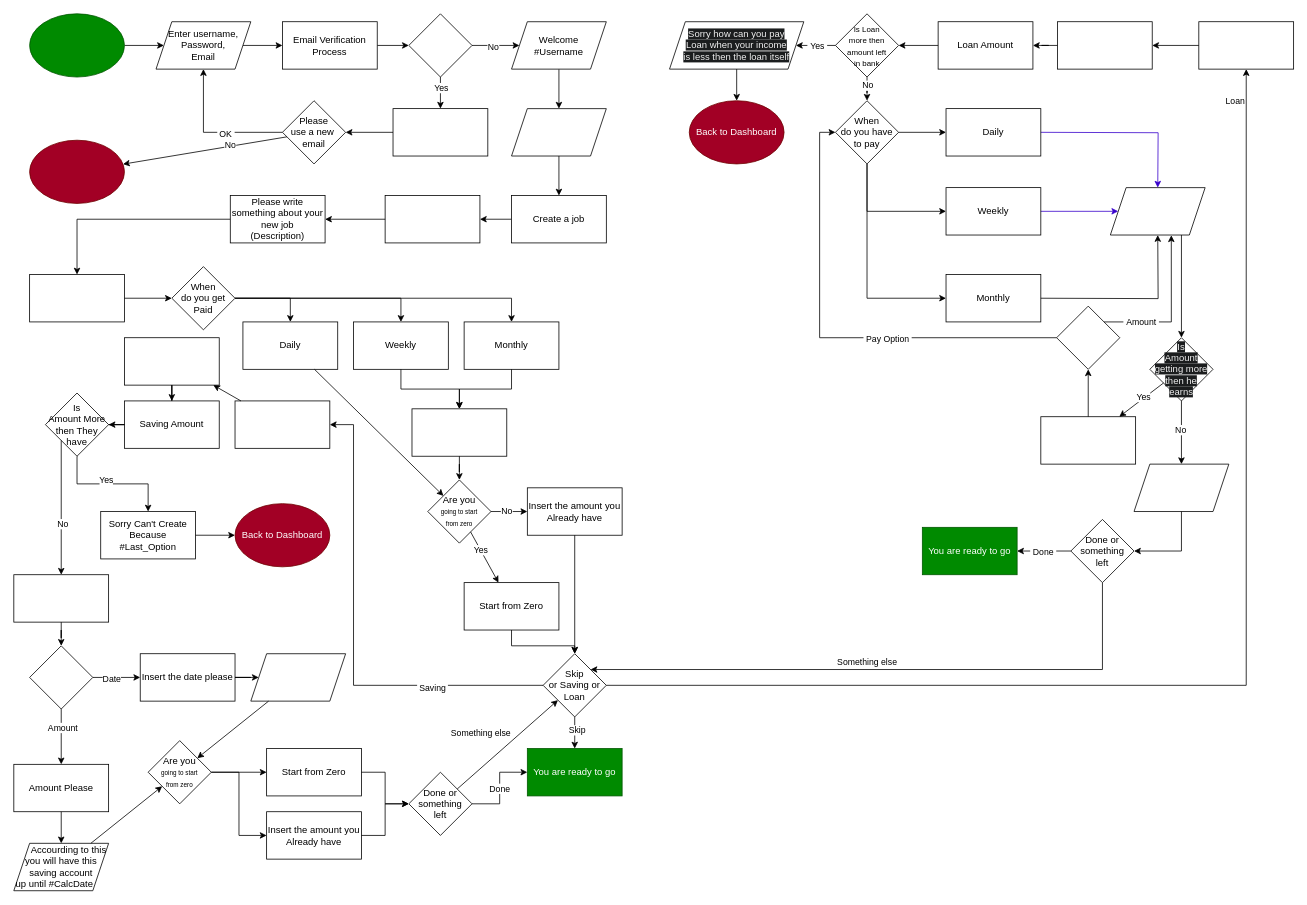
The diagram is 1307 pixels wide and 905 high, and some of its shapes have lost their labels. The shapes that lost their labels are listed below. From the top down, each one's centre as x and y in pixels, then its label:
point 76,45: Register
point 440,45: Has email already used
point 1104,45: Loan Description
point 1246,45: Loan Name
point 440,132: Sorry but i can see that there already is an account with this email address
point 558,132: Please
point 76,171: END
point 432,219: Job Name
point 1157,211: How much are you going to pay #Last_Option
point 76,298: Income
point 1088,337: Want to change amount or pay option
point 171,361: Saving Description
point 282,424: Saving Name
point 459,432: Pay Day
point 1088,440: Sorry Your #Second_Last_Option is not working with you current income
point 1181,487: Accourding to this you will be able to finish this loan at this #CalcDate
point 61,598: How long this saving account is gonna last
point 61,677: Amount or Date
point 298,677: Accourding to this you will have this saving account of #CalcAmount
